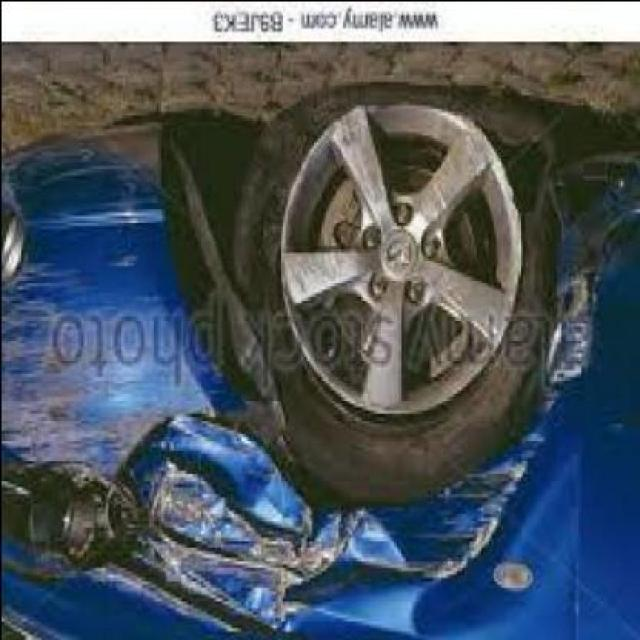damage: (0, 97, 640, 636)
